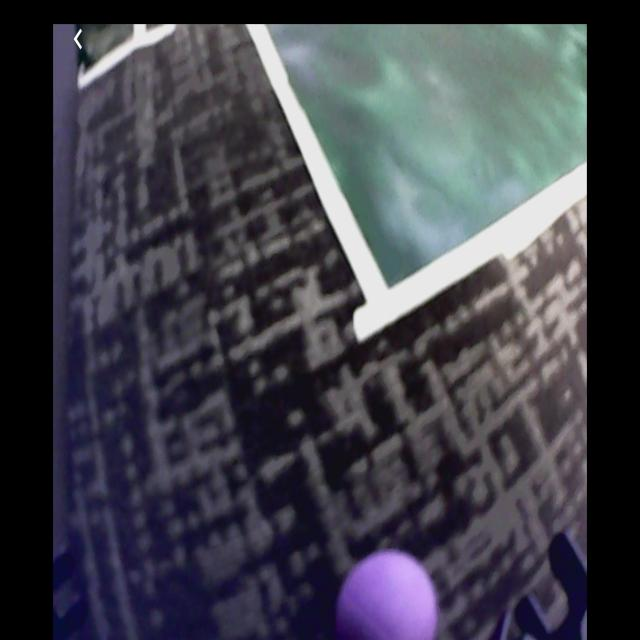ball: (339, 548, 445, 638)
